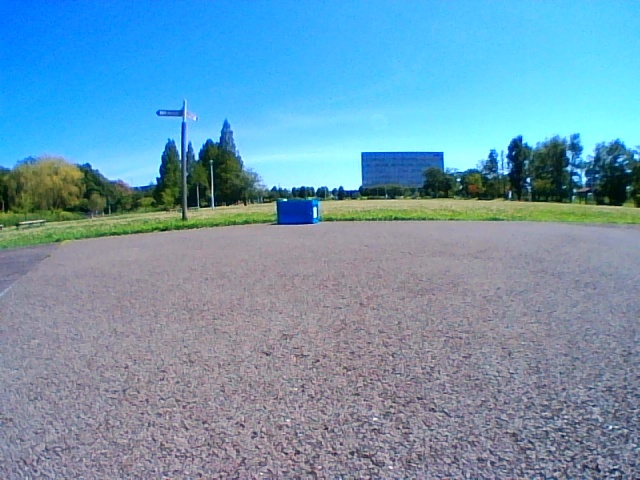blue_box: (277, 200, 318, 224)
tag: (313, 205, 318, 217)
